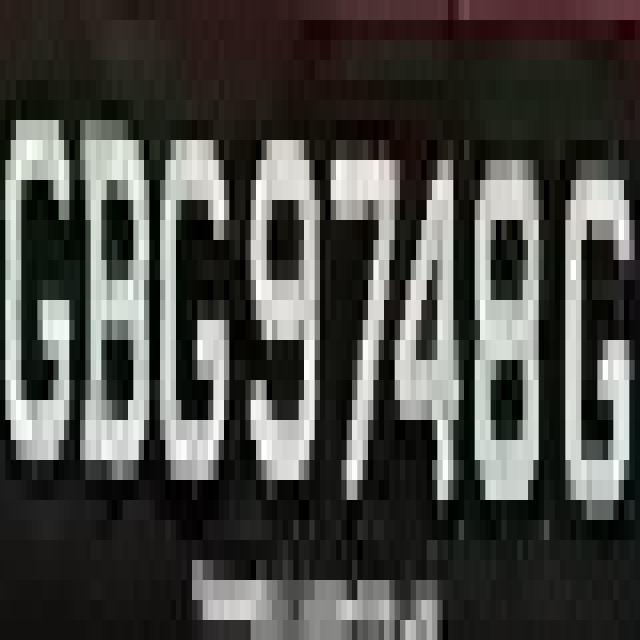4: (379, 40, 464, 600)
7: (314, 80, 394, 540)
8: (469, 40, 544, 580)
9: (240, 120, 325, 500)
B: (80, 100, 155, 560)
G: (5, 20, 86, 540), (144, 60, 229, 540), (544, 100, 624, 520)
